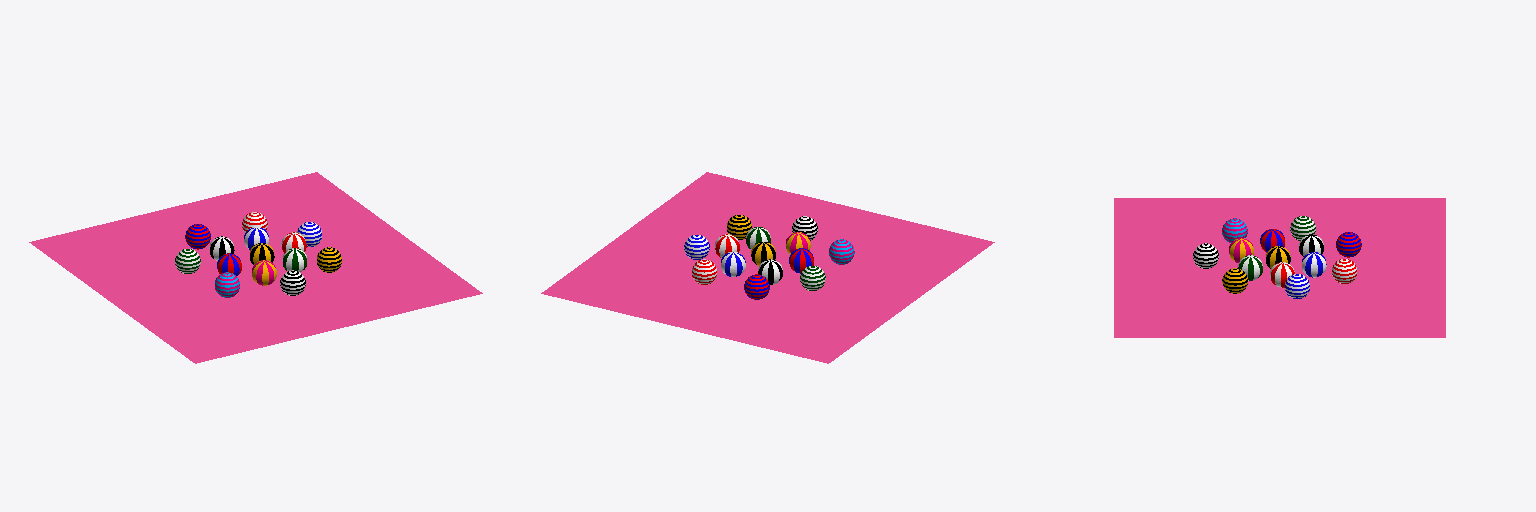
The model's file is pelotas.obj.
3 views of the same model, side by side, from view 1: azimuth 30°, elevation 25°; view 2: azimuth 150°, elevation 25°; view 3: azimuth 270°, elevation 25° (orthographic).
Parts seen in each view (by area): view 1: Plane.002; view 2: Plane.002; view 3: Plane.002.
Boxes of the visible parts, box(x1,y1,x2,y2) form: Plane.002: box(29, 172, 482, 363); Plane.002: box(541, 172, 994, 363); Plane.002: box(1114, 198, 1445, 337).
Size of the model in its own units: 19.37 by 1.54 by 19.37.